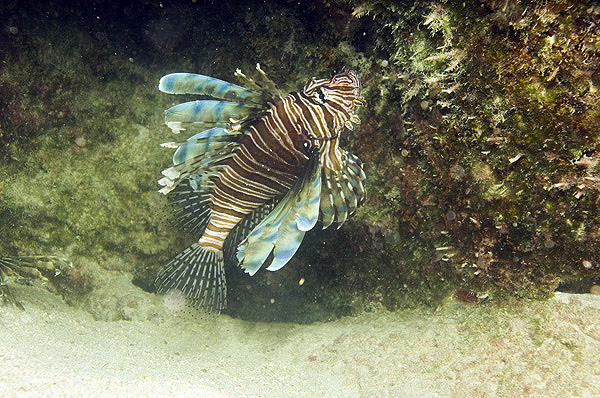Pterois_volitans: (161, 59, 384, 276)
